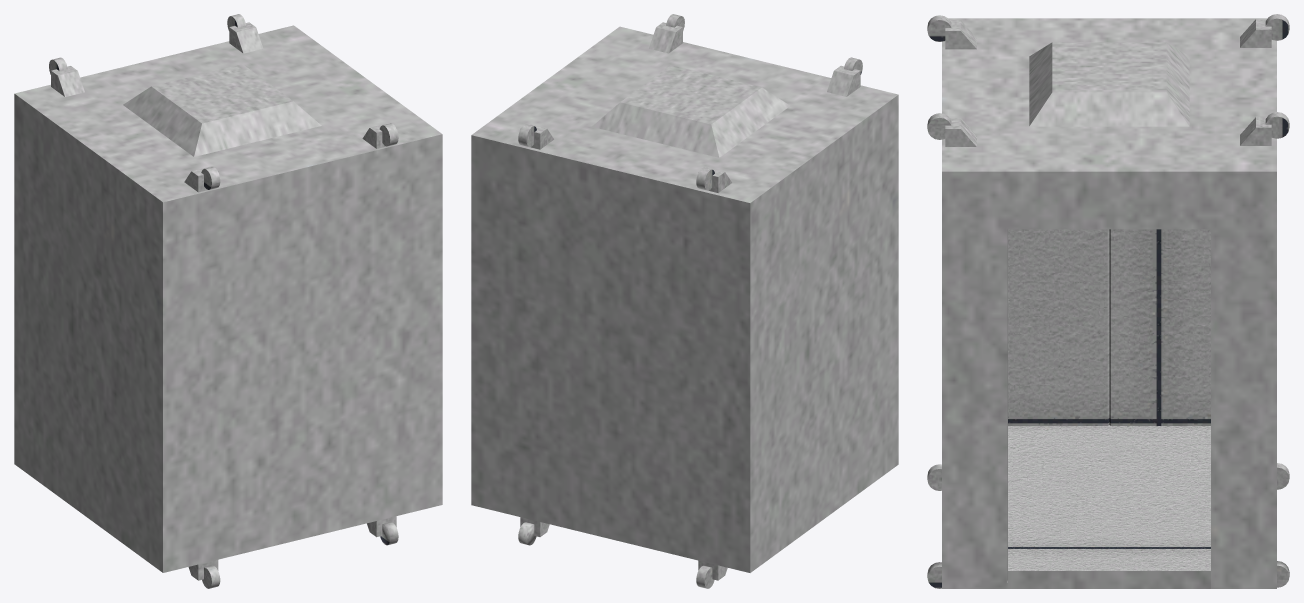
File: Elivator.obj
The picture shows the model from 3 angles, left to right: view 1: azimuth 30°, elevation 25°; view 2: azimuth 150°, elevation 25°; view 3: azimuth 270°, elevation 25°; orthographic projection. The views are drawn at different scales.
Visible parts, largest first — view 1: elivator; view 2: elivator; view 3: elivator.
Boxes of the visible parts, box(x1,y1,x2,y2) form: elivator: box(14, 14, 442, 588); elivator: box(471, 14, 898, 588); elivator: box(927, 14, 1289, 588).
Size of the model in its own units: 4.78 by 6.84 by 4.77.
